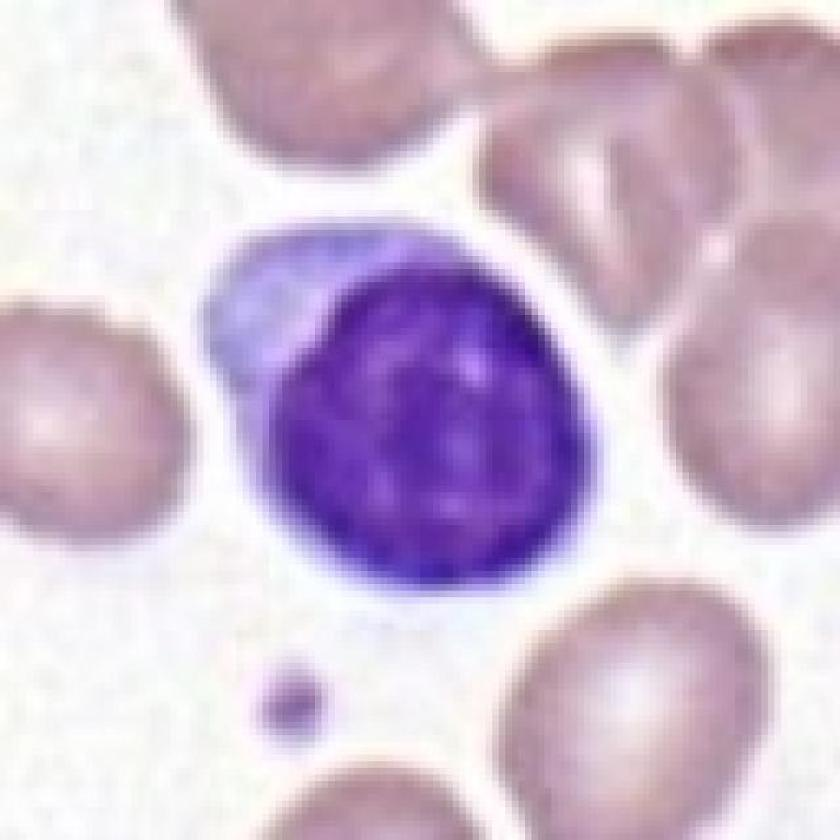lymphocyte: (193, 211, 602, 603)
